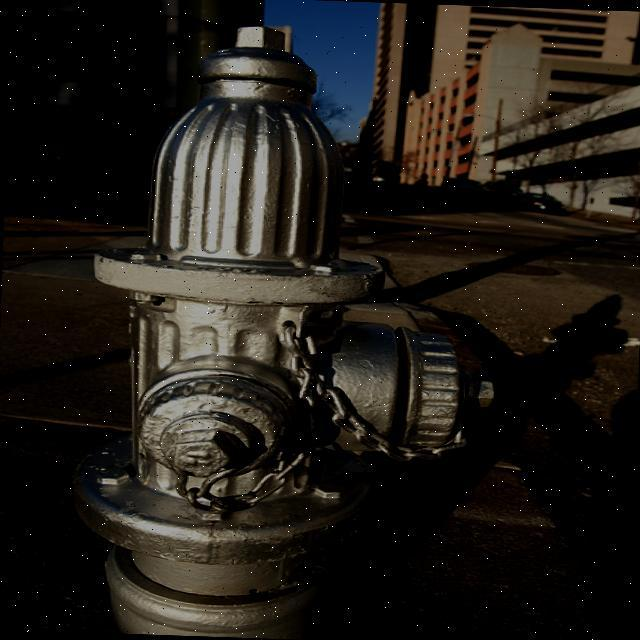fire_hydrant: (68, 17, 508, 637)
